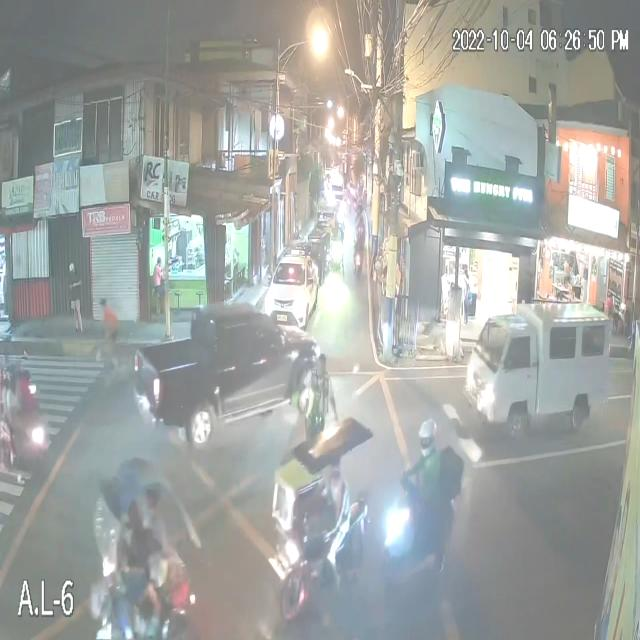Full-Faced: (416, 417, 439, 458)
